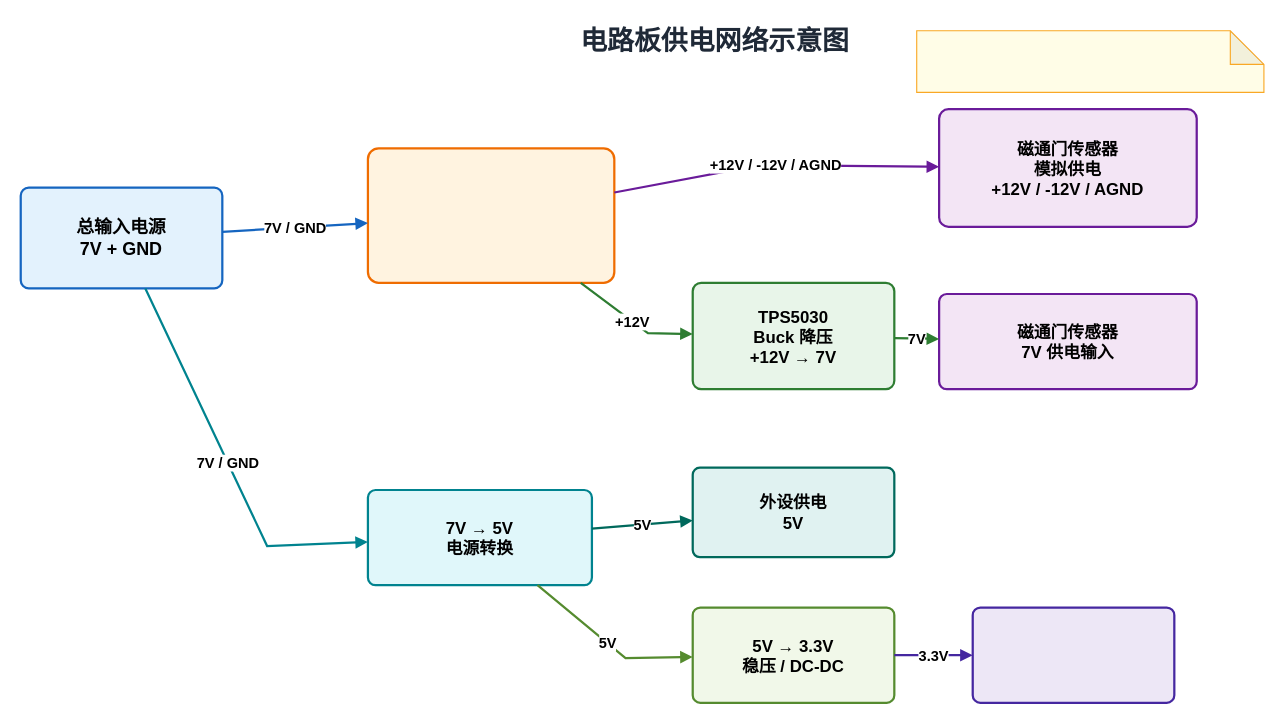
The diagram is 1284 pixels wide and 722 high, and some of its shapes have lost their labels. The shapes that lost their labels are listed below. From the top down, each one's centre as x and y in pixels, then its label:
the point at 1090,61: AGND 为隔离侧参考地，服务磁通门传感器模拟电源域
the point at 490,215: 隔离电源模块 输入：7V / GND 输出：+12V, -12V, AGND
the point at 1073,654: MCU 供电 3.3V
